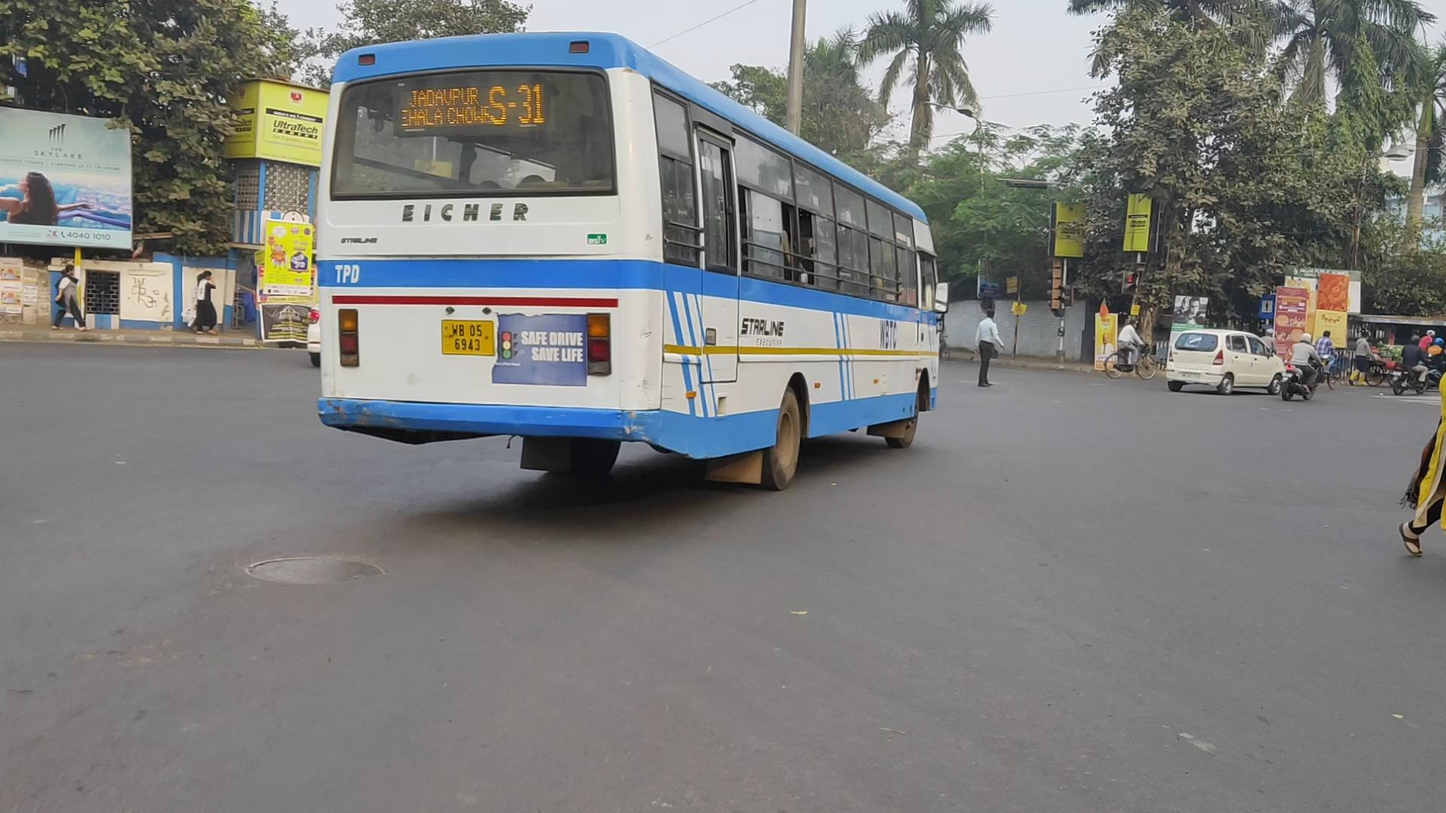Bus: (317, 30, 950, 493)
bike: (1105, 319, 1157, 380), (1281, 333, 1325, 401), (1392, 334, 1429, 396), (1313, 330, 1344, 390)
car: (1166, 328, 1285, 397)
